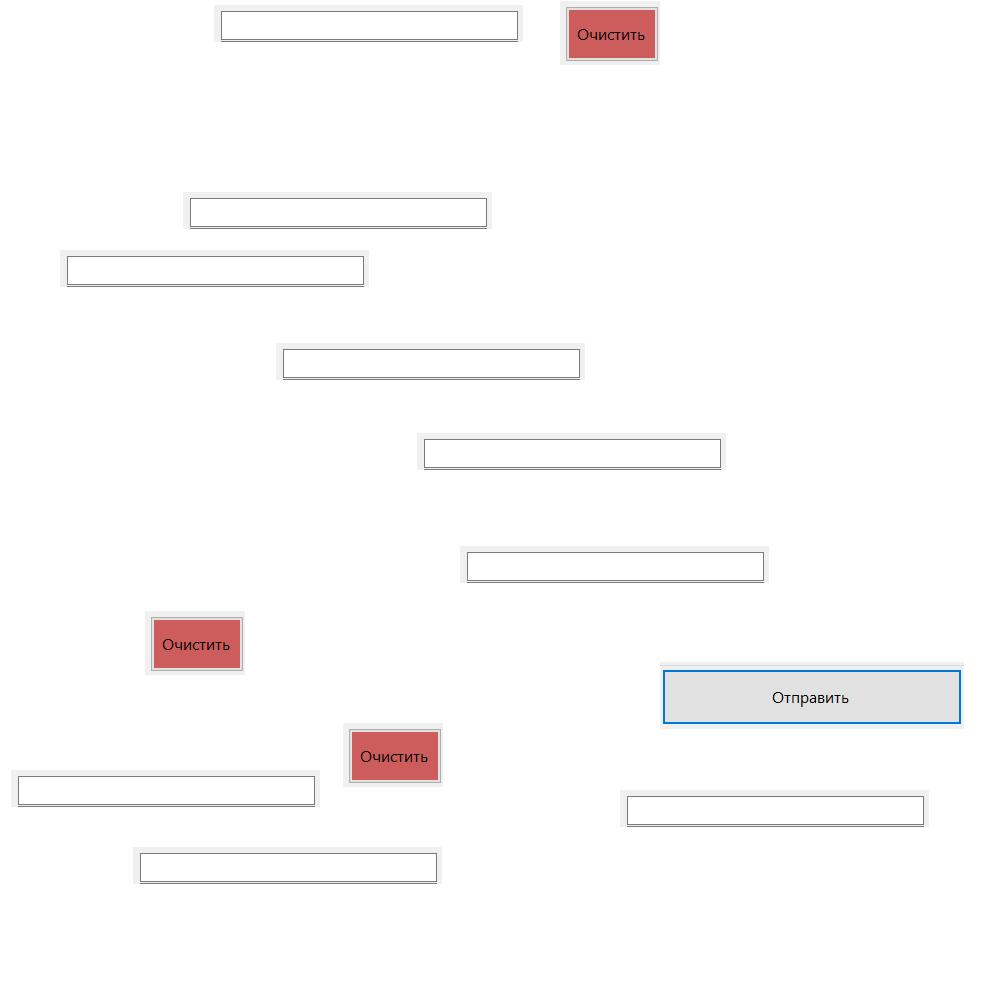Button: (660, 662, 964, 729), (145, 611, 245, 675), (560, 1, 660, 65), (343, 723, 443, 787)
EditText-: (183, 192, 492, 229), (620, 790, 929, 827), (417, 433, 726, 470), (60, 250, 369, 287), (214, 5, 523, 42), (133, 847, 442, 884), (460, 546, 769, 583), (276, 343, 585, 380), (11, 770, 320, 807)
